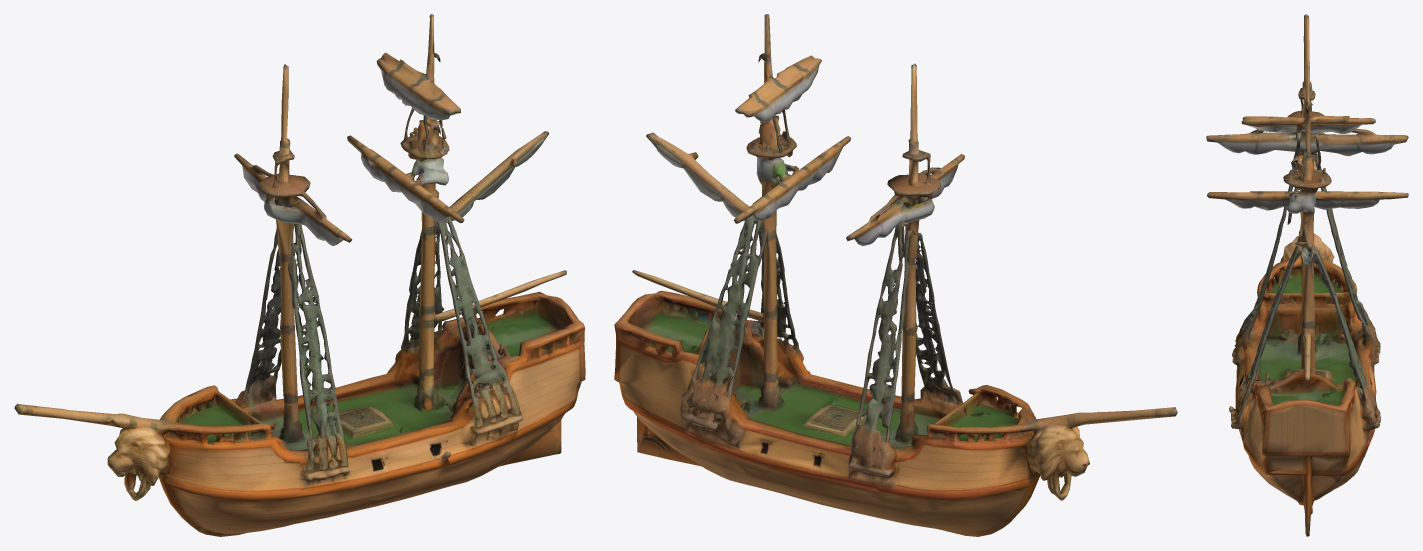
File: ship-lion.opt.glb
The picture shows the model from 3 angles, left to right: view 1: azimuth 30°, elevation 25°; view 2: azimuth 150°, elevation 25°; view 3: azimuth 270°, elevation 25°; orthographic projection. The views are drawn at different scales.
Bounding box in the file's own units: 2 × 1.65 × 0.7237.
Materials: 1 (1 with a texture image).
